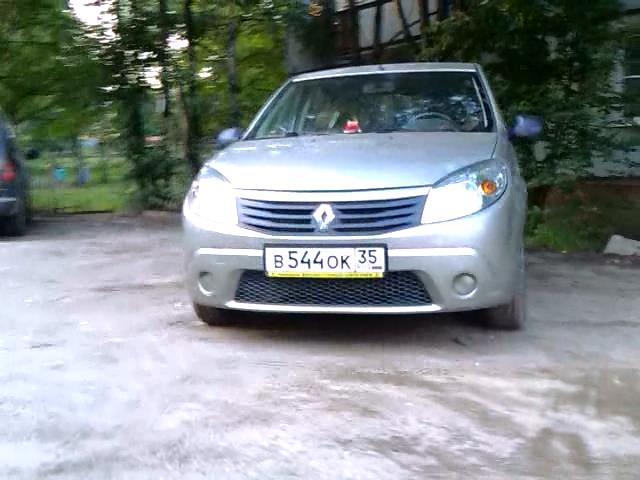car license plate: (262, 245, 389, 281)
